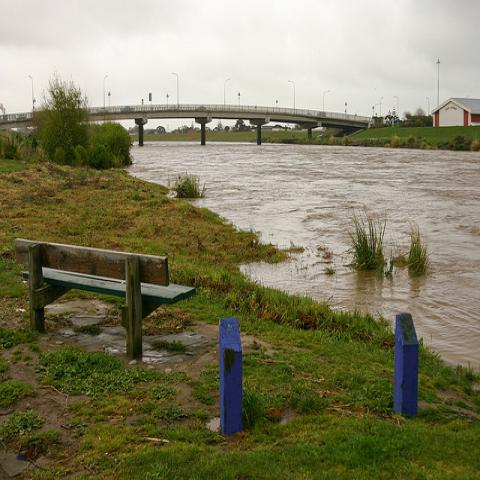car: (120, 106, 134, 112), (196, 106, 206, 110)
